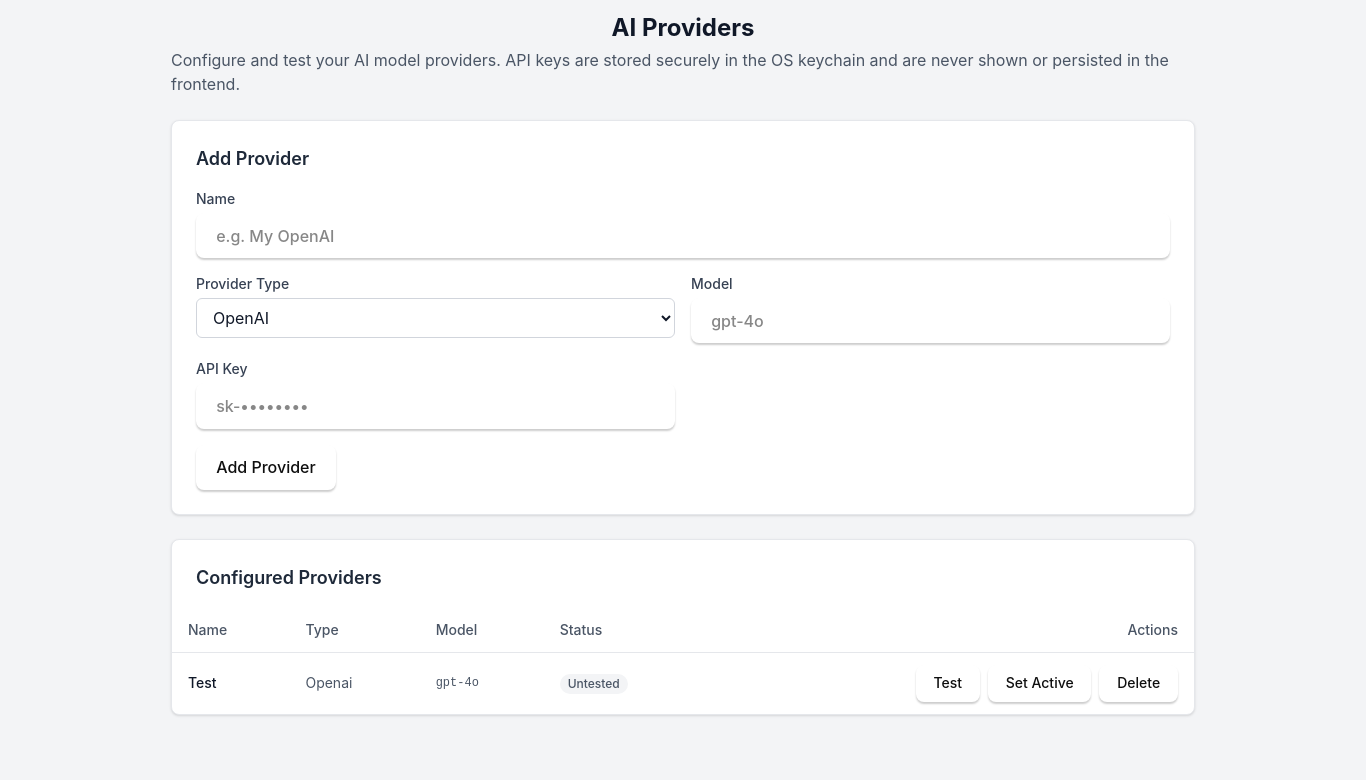
ConfigPage › tests provider success
This screenshot has width=1366, height=780.
Check: the text "Untested" is shown, box [560,674,628,694]
Click the button "Test": (948, 684) [916,665,980,702]
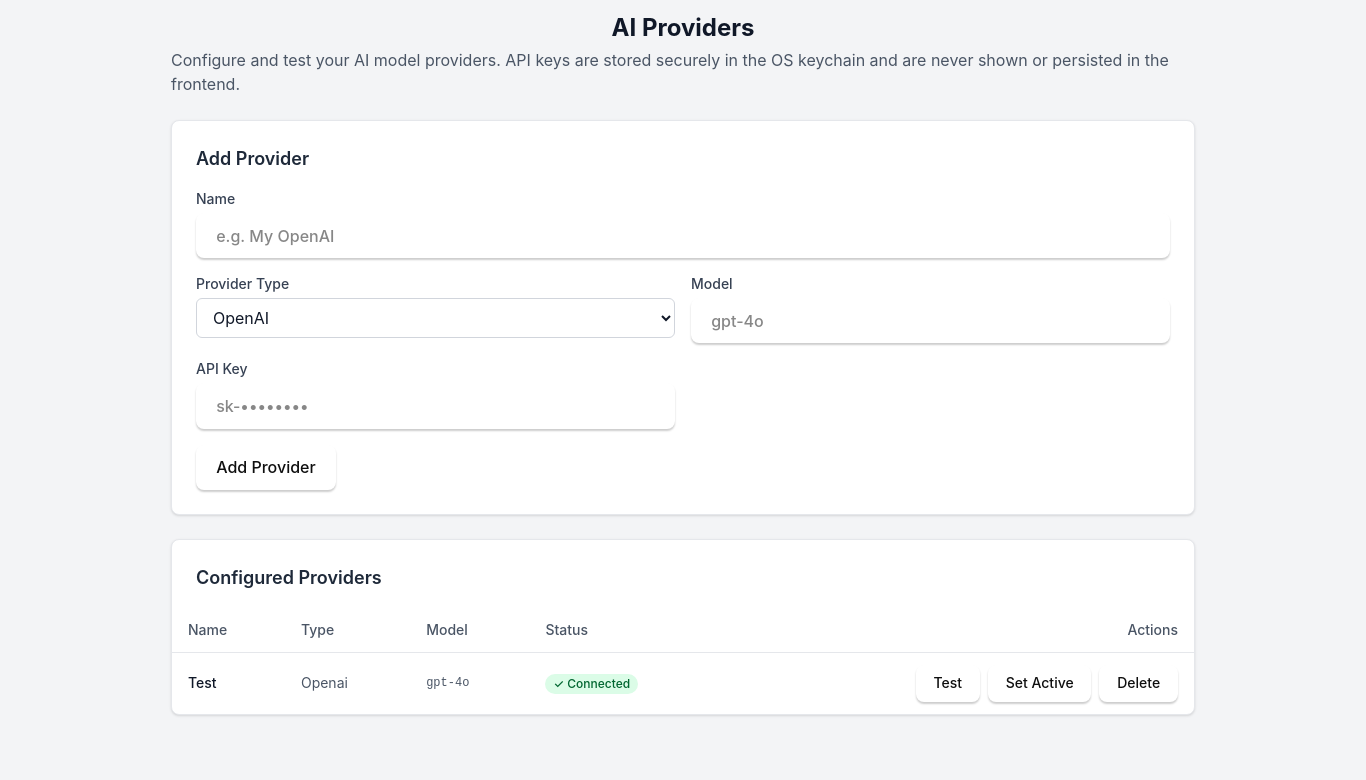
Check: the text "✓ Connected" is shown, box [546,674,638,694]
